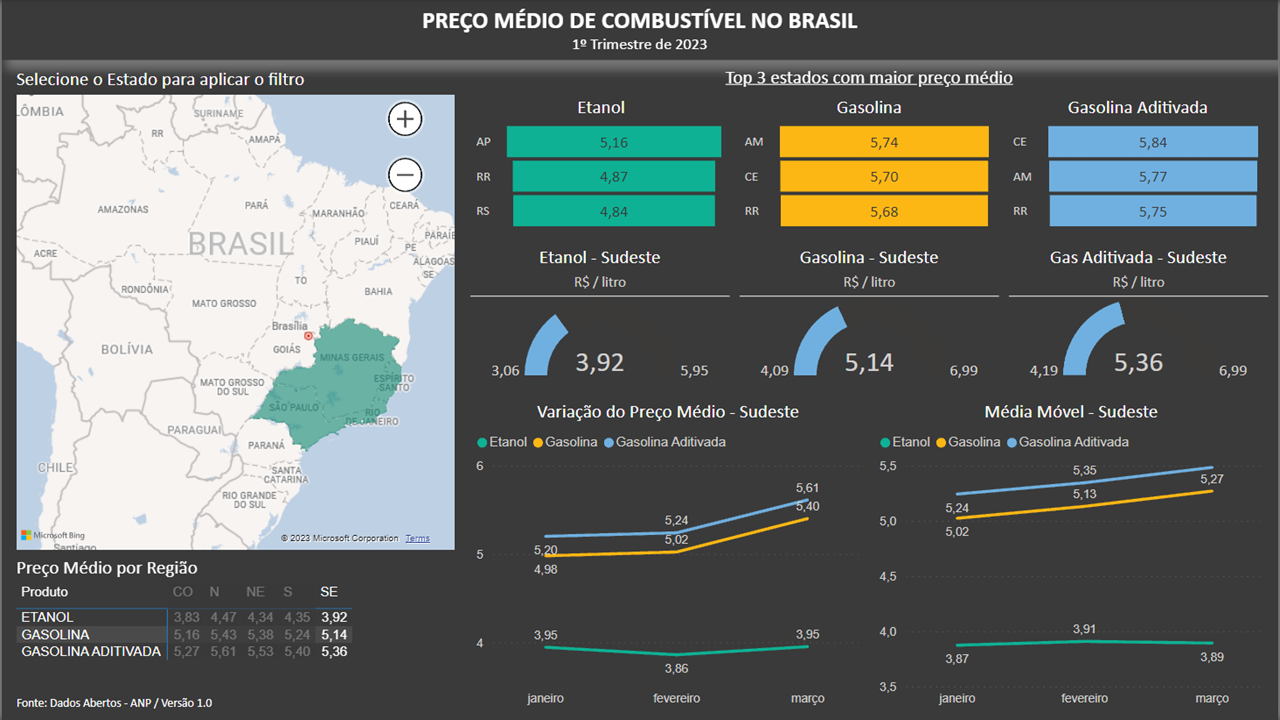

Layout of this report page (visuals, bound fields, positions):
{"tool":"powerbi","page":{"name":"Preço Médio","canvas":[1280,720],"ordinal":0},"visuals":[{"type":"lineChart","fields":{"Category":["preco_tratado.Data_Coleta.Variation.Hierarquia de datas.Mês","preco_tratado.Data_Coleta.Variation.Hierarquia de datas.Dia"],"Y":["Medidas.MediaNacEtanol","Medidas.MediaNacGasComum","Medidas.MediaNacGasAdit"]},"box":[470.9,395,395,320],"z":0},{"type":"lineChart","fields":{"Y":["Medidas.Média móvel de MediaNacEtanol","Medidas.Média móvel de MediaNacGasComum","Medidas.Média móvel de MediaNacGasAdit"],"Category":["preco_tratado.Data_Coleta.Variation.Hierarquia de datas.Mês","preco_tratado.Data_Coleta.Variation.Hierarquia de datas.Dia"]},"box":[874.9,395,395.1,320],"z":1000},{"type":"filledMap","title":"Selecione o Estado para aplicar o filtro","fields":{"Category":["preco_tratado.Estado"]},"box":[10,65,450,490],"z":2000},{"type":"pivotTable","fields":{"Rows":["preco_tratado.Produto"],"Columns":["preco_tratado.Regiao"],"Values":["Medidas.MediaValorVenda"]},"box":[10,554.7,450,123.7],"z":3000},{"type":"funnel","title":"Gasolina ","fields":{"Category":["TOPMediaGas.Estado"],"Y":["Avg(TOPMediaGas.GAS)"]},"box":[740.2,95,260,140.1],"z":4000},{"type":"textbox","box":[0,0,1280,60],"z":5000},{"type":"funnel","title":"Gasolina Aditivada","fields":{"Category":["TOPMediaGasAdit.Estado"],"Y":["Avg(TOPMediaGasAdit.GAS_ADIT)"]},"box":[1009.6,95,260.7,140.1],"z":6000},{"type":"funnel","title":"Etanol","fields":{"Category":["TOPMediaEtanol.Estado"],"Y":["Avg(TOPMediaEtanol.ETANOL)"]},"box":[470.8,95,260.7,140.1],"z":7000},{"type":"textbox","title":"Top 3 estados com maior preço médio","box":[470.2,65,800.1,30],"z":8000},{"type":"textbox","box":[10,690,225.5,25.9],"z":9000},{"type":"textbox","box":[470,245.1,260,52],"z":10000},{"type":"gauge","fields":{"Y":["Medidas.MediaNacEtanol"],"MinValue":["Medidas.MinMediaNacEtanol"],"MaxValue":["Medidas.MaxMediaNacEtanol"]},"box":[470,297.6,259.7,87.5],"z":11000},{"type":"textbox","box":[740,245,260,52],"z":12000},{"type":"gauge","fields":{"Y":["Medidas.MediaNacGasComum"],"MinValue":["Medidas.MinMediaNacGas"],"MaxValue":["Medidas.MaxMediaNacGas"]},"box":[740,297,259.7,87.5],"z":13000},{"type":"textbox","box":[1010.7,245,260,52],"z":14000},{"type":"gauge","fields":{"Y":["Medidas.MediaNacGasAdit"],"MinValue":["Medidas.MinMediaNacGasAdt"],"MaxValue":["Medidas.MaxMediaNacGasAdt"]},"box":[1010.7,297,259.7,87.5],"z":15000}]}

Visuals, with their boxes in screenshot pixels (x1, y1, x2, y2), scaled from the page's 1280x720 canvas onto the 1280x720 screenshot:
lineChart - preco_tratado.Data_Coleta.Variation.Hierarquia de datas.Mês x preco_tratado.Data_Coleta.Variation.Hierarquia de datas.Dia: 471 395 866 715
lineChart - Medidas.Média móvel de MediaNacEtanol x Medidas.Média móvel de MediaNacGasComum: 875 395 1270 715
"Selecione o Estado para aplicar o filtro" filledMap: 10 65 460 555
pivotTable - preco_tratado.Produto x preco_tratado.Regiao: 10 555 460 678
"Gasolina " funnel: 740 95 1000 235
textbox: 0 0 1279 60
"Gasolina Aditivada" funnel: 1010 95 1270 235
"Etanol" funnel: 471 95 732 235
"Top 3 estados com maior preço médio" textbox: 470 65 1270 95
textbox: 10 690 236 716
textbox: 470 245 730 297
gauge - Medidas.MediaNacEtanol x Medidas.MinMediaNacEtanol: 470 298 730 385
textbox: 740 245 1000 297
gauge - Medidas.MediaNacGasComum x Medidas.MinMediaNacGas: 740 297 1000 384
textbox: 1011 245 1271 297
gauge - Medidas.MediaNacGasAdit x Medidas.MinMediaNacGasAdt: 1011 297 1270 384
